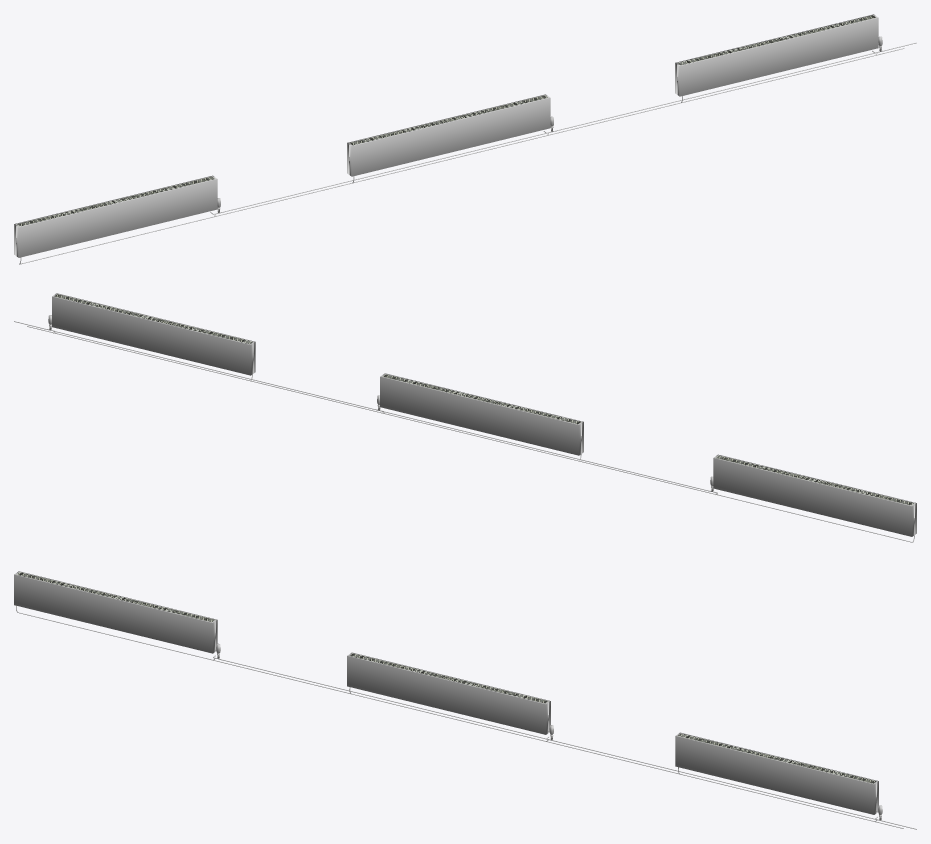
The model's file is Radiator Set.fbx.
3 renders of one model, top to bottom at view 1: azimuth 30°, elevation 25°; view 2: azimuth 150°, elevation 25°; view 3: azimuth 330°, elevation 25°, orthographic.
Visible parts, largest first — view 1: Radiator.000; view 2: Radiator.000; view 3: Radiator.000.
Part boxes in pixels (<box>): Radiator.000: <box>14,14,916,264</box>; Radiator.000: <box>14,293,916,542</box>; Radiator.000: <box>14,571,916,829</box>.
Size of the model in its own units: 905 by 37.44 by 8.41.
